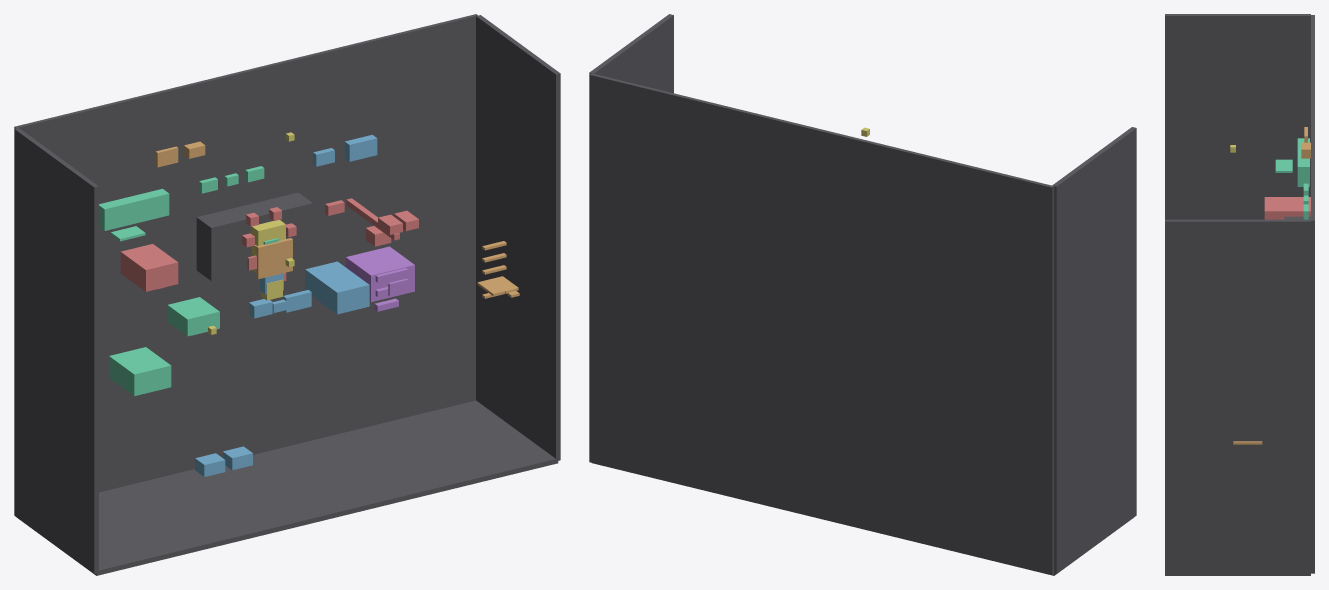
Rendered from main.glb.
The picture shows the model from 3 angles, left to right: view 1: azimuth 30°, elevation 25°; view 2: azimuth 150°, elevation 25°; view 3: azimuth 270°, elevation 25°; orthographic projection. The views are drawn at different scales.
Parts seen in each view (by area): view 1: ENV_FLOOR, ENV_WALL_BACK, ENV_WALL_LEFT, ENV_WALL_RIGHT, INT_BED, INT_VENT, INT_ULTRASOUND, INT_DEFIB, INT_MED_CART, INT_MONITOR, HS_CPR_ZONE, INT_LABS (+3 smaller); view 2: ENV_FLOOR, ENV_WALL_LEFT, ENV_WALL_RIGHT; view 3: ENV_WALL_RIGHT, ENV_WALL_LEFT, ENV_FLOOR, INT_DEFIB, INT_ECG_12LEAD, ENV_WALL_BACK, HS_LAB_RESULTS_PANEL.
Boxes of the visible parts, left/top/right/bottom form: ENV_FLOOR: left=14, top=14, right=477, bottom=492; ENV_WALL_BACK: left=18, top=400, right=558, bottom=575; ENV_WALL_LEFT: left=14, top=127, right=98, bottom=573; ENV_WALL_RIGHT: left=476, top=15, right=560, bottom=461; INT_BED: left=196, top=192, right=312, bottom=280; INT_VENT: left=305, top=261, right=369, bottom=314; INT_ULTRASOUND: left=109, top=347, right=171, bottom=396; INT_DEFIB: left=120, top=244, right=178, bottom=291; INT_MED_CART: left=345, top=246, right=414, bottom=302; INT_MONITOR: left=167, top=297, right=219, bottom=336; HS_CPR_ZONE: left=256, top=238, right=292, bottom=279; INT_LABS: left=99, top=196, right=136, bottom=230; ENV_FLOOR: left=589, top=73, right=1054, bottom=574; ENV_WALL_LEFT: left=1052, top=127, right=1136, bottom=573; ENV_WALL_RIGHT: left=589, top=14, right=673, bottom=93; ENV_WALL_RIGHT: left=1165, top=219, right=1310, bottom=574; ENV_WALL_LEFT: left=1165, top=14, right=1310, bottom=219; ENV_FLOOR: left=1311, top=15, right=1314, bottom=573; INT_DEFIB: left=1264, top=197, right=1310, bottom=219; INT_ECG_12LEAD: left=1297, top=152, right=1309, bottom=186; ENV_WALL_BACK: left=1165, top=574, right=1310, bottom=575; HS_LAB_RESULTS_PANEL: left=1275, top=159, right=1292, bottom=172.
Bounding box in the file's own units: 10.15 × 8.05 × 3.08.
